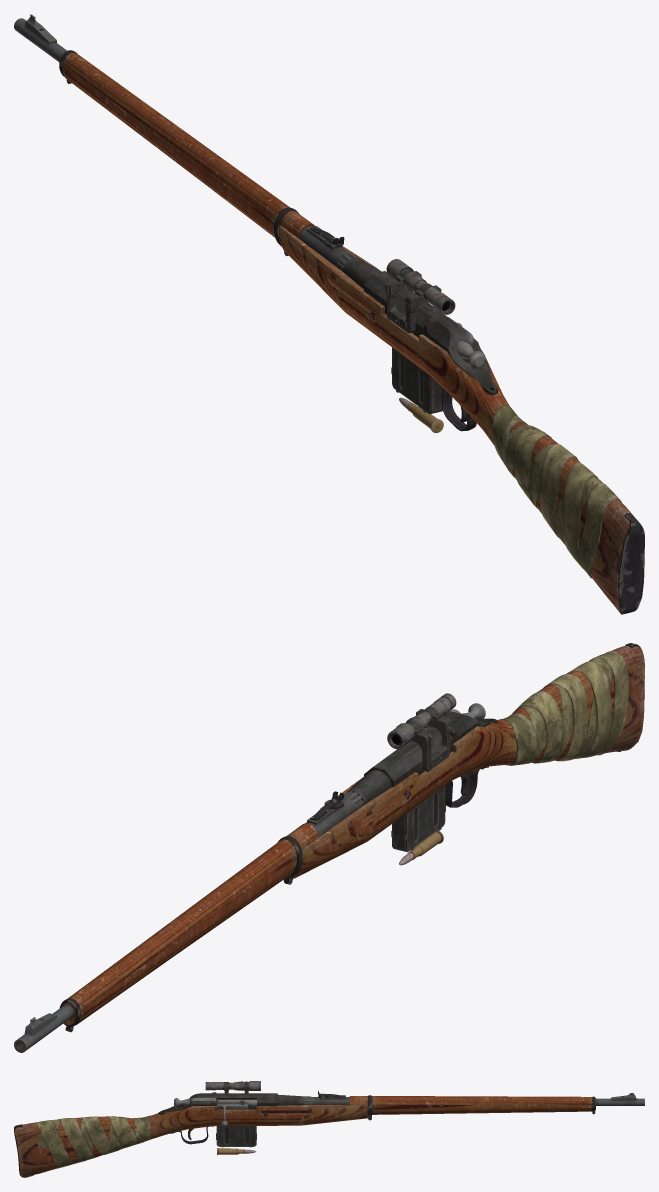
The model's file is zz_hunting.glb.
The picture shows the model from 3 angles, top to bottom: view 1: azimuth 30°, elevation 25°; view 2: azimuth 150°, elevation 25°; view 3: azimuth 270°, elevation 25°; orthographic projection. The views are drawn at different scales.
Visible parts, largest first — view 1: bolt_action_rifle_7_62_scope; view 2: bolt_action_rifle_7_62_scope; view 3: bolt_action_rifle_7_62_scope.
Part boxes in pixels (<box>): bolt_action_rifle_7_62_scope: <box>14,14,644,614</box>; bolt_action_rifle_7_62_scope: <box>14,643,644,1052</box>; bolt_action_rifle_7_62_scope: <box>14,1081,644,1177</box>.
Size of the model in its own units: 0.0666 by 0.2045 by 1.23.
3 materials, 3 textured.
